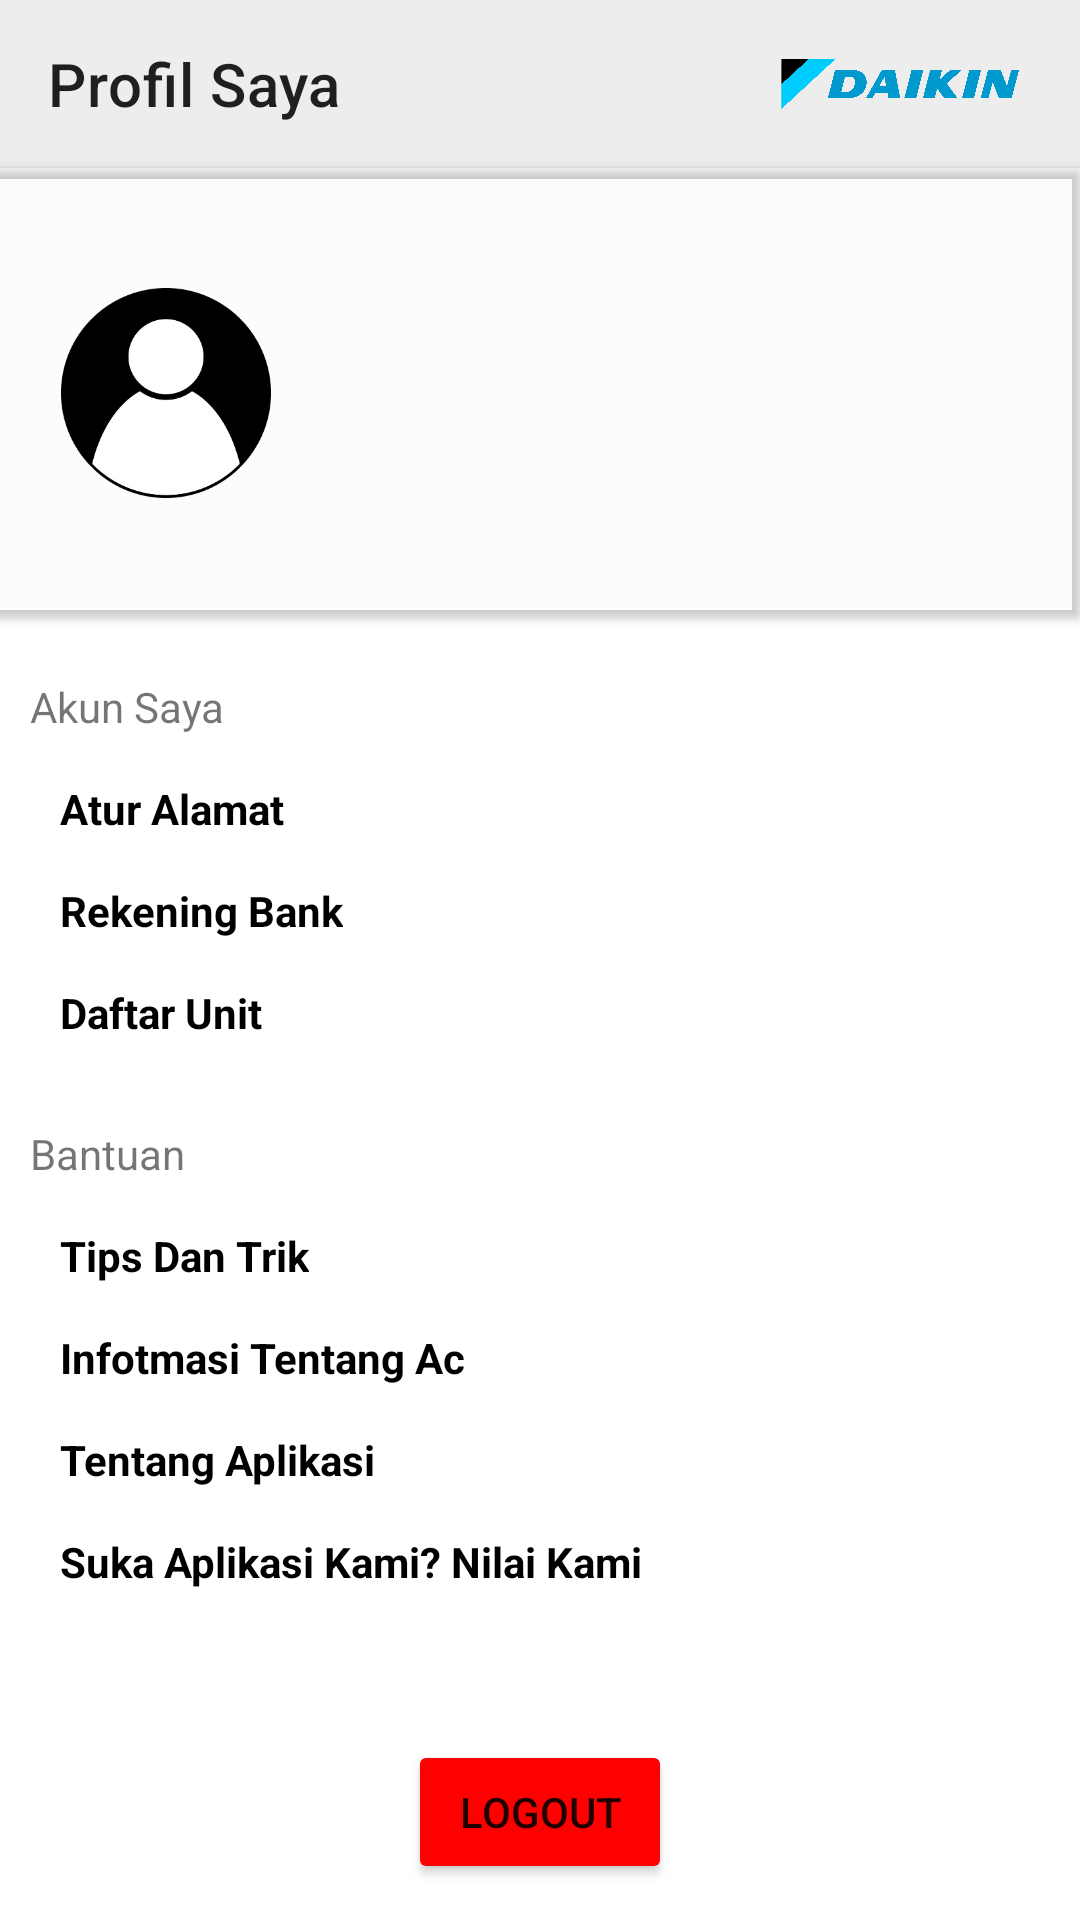

Screen size 1080px x 1920px. Icon name, then its center in pixels as (x,y):
profil modified: (166,393)
